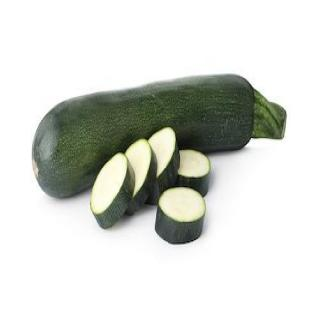Zucchini: (32, 75, 285, 196), (90, 153, 134, 227), (156, 188, 205, 243), (147, 128, 179, 203), (126, 140, 156, 214), (177, 150, 210, 195)
